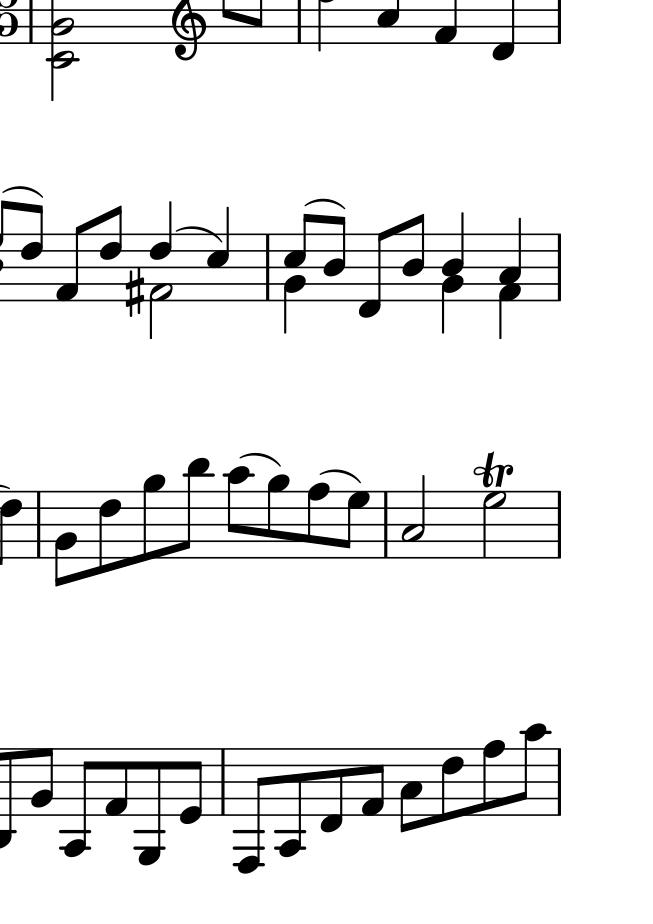2_3: (401, 478, 427, 557)
2_7: (482, 491, 506, 557)
4_1_3: (496, 215, 522, 337)
4_2_4: (441, 212, 466, 335)
4_5: (206, 210, 233, 303)
8_-1: (357, 229, 390, 319), (319, 747, 344, 835)
8_-4: (61, 745, 94, 857), (275, 746, 306, 858)
8_-5: (133, 745, 165, 867)
8_-6: (233, 748, 269, 871)
8_0: (178, 747, 205, 826)
8_1: (55, 221, 88, 304), (103, 746, 129, 819), (361, 747, 385, 818)
8_10: (518, 722, 549, 819), (226, 465, 252, 561)
8_11: (183, 455, 212, 561)
8_2: (52, 490, 79, 585), (30, 747, 53, 817)
8_3: (398, 747, 423, 835)
8_4: (400, 213, 426, 303), (322, 215, 347, 303)
8_6: (98, 206, 123, 304), (20, 201, 44, 303), (97, 489, 122, 577), (440, 748, 465, 822)
8_7: (341, 489, 369, 559)
8_8: (306, 481, 330, 560), (482, 739, 505, 818)
8_9: (266, 474, 290, 560), (142, 474, 164, 562)
Sharp: (123, 267, 144, 318)
Single_barline: (215, 749, 233, 815), (551, 491, 567, 558), (551, 234, 567, 300), (260, 235, 276, 298), (31, 490, 46, 557), (553, 748, 566, 816)
Slur: (177, 223, 222, 246), (323, 466, 360, 484), (242, 452, 279, 468), (5, 184, 41, 199), (307, 195, 342, 210)
Trill: (473, 447, 513, 490)
